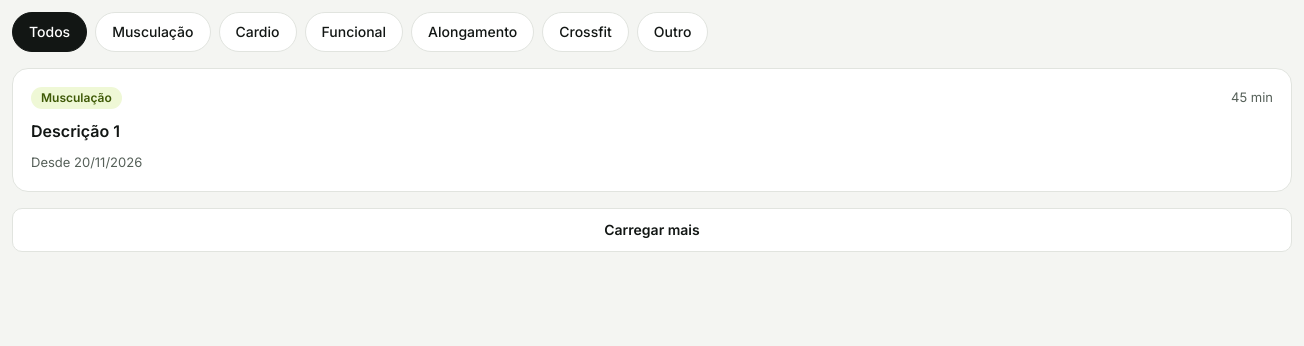
Test: MeusTreinos › carrega mais e esconde o botão quando tudo foi carregado
Click the button "Carregar mais". click: (652, 230)
box: [12,208,1292,252]
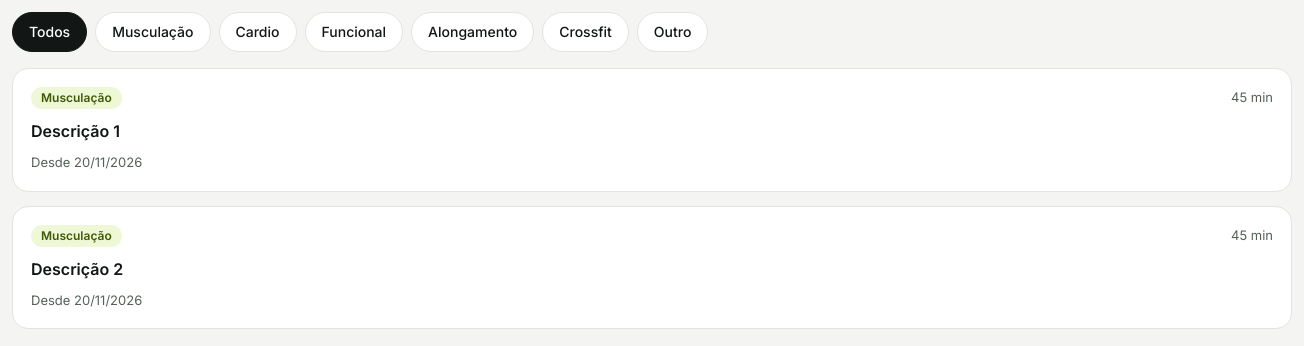
Expected: the text "Descrição 1" is shown, [31,119,120,143]
Result: the text "Descrição 2" is shown at [31,256,123,280]
Result: the button "Carregar mais" is gone
